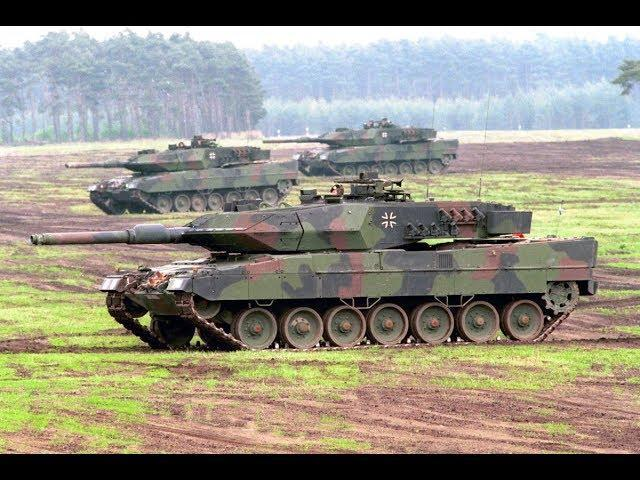tank: (28, 172, 600, 354), (64, 135, 299, 216), (262, 118, 459, 176)
